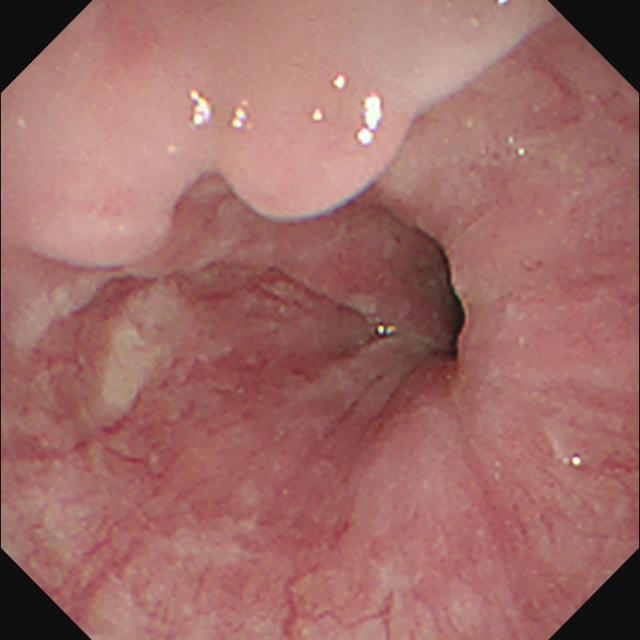A: (254, 262, 412, 383), (42, 182, 187, 272), (231, 162, 374, 231), (69, 441, 169, 482)
E: (443, 258, 476, 366)
J: (101, 279, 237, 416), (2, 275, 99, 357)
U: (358, 91, 387, 149), (190, 90, 213, 130), (559, 449, 593, 472), (231, 99, 251, 138), (308, 100, 328, 130), (329, 73, 353, 97)
